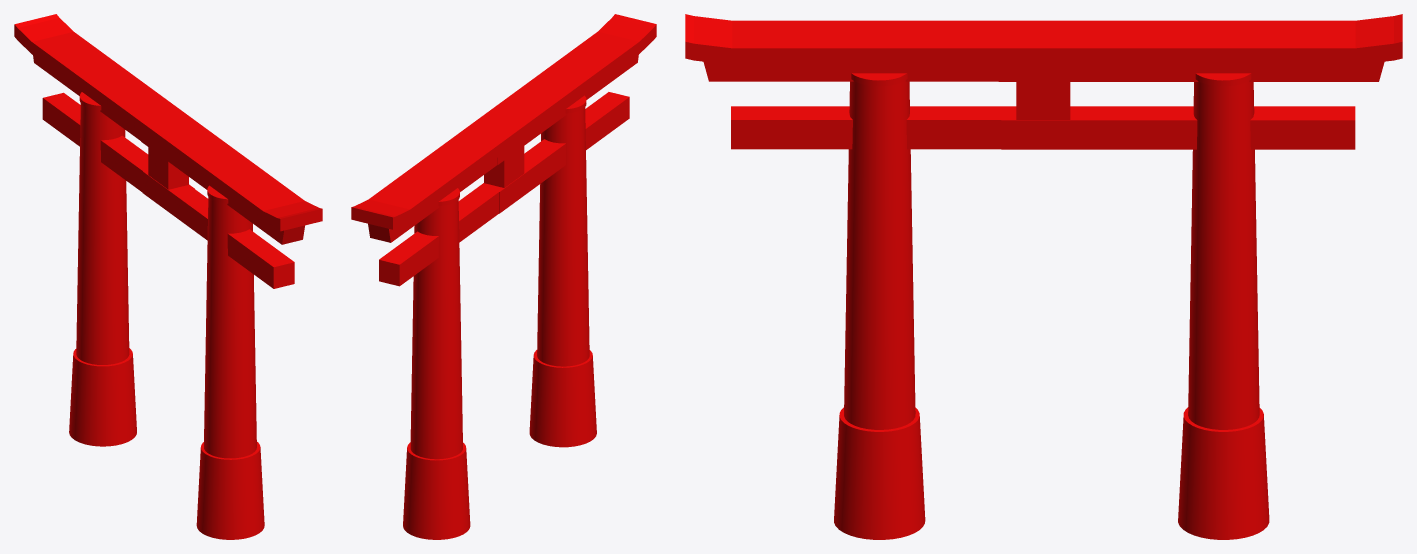
Rendered from shrine 1.glb.
3 views of the same model, side by side, from view 1: azimuth 30°, elevation 25°; view 2: azimuth 150°, elevation 25°; view 3: azimuth 270°, elevation 25° (orthographic). The views are drawn at different scales.
Size of the model in its own units: 1.5 by 8.9 by 11.77.
